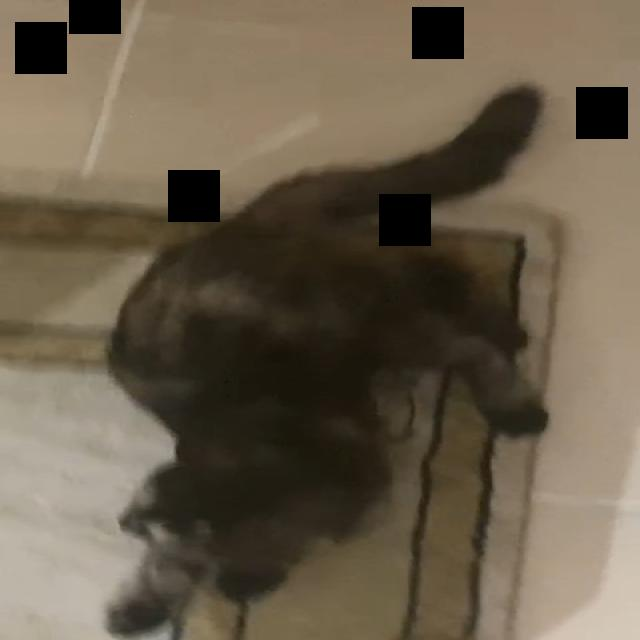authorized: (101, 80, 554, 638)
